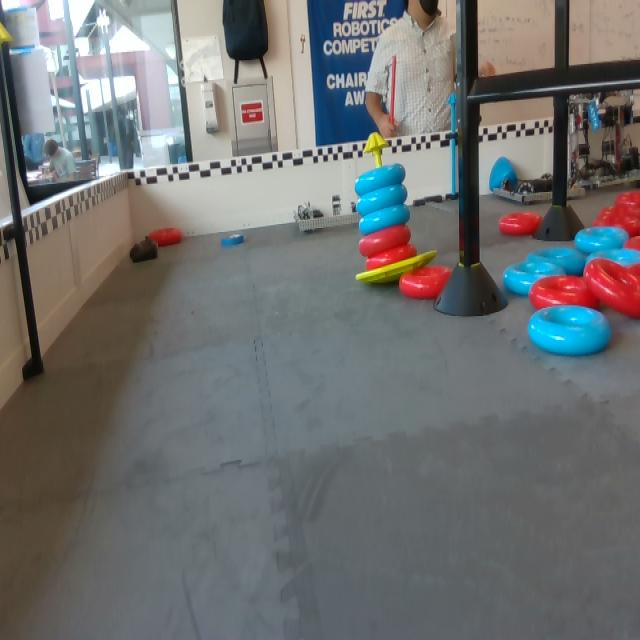Blue-Ring: (528, 304, 612, 356), (502, 262, 565, 294), (354, 163, 407, 199), (359, 205, 411, 237), (526, 247, 584, 275), (575, 225, 628, 255), (357, 187, 405, 219), (585, 249, 639, 268), (220, 231, 245, 248)
Mobile-Goal: (355, 130, 438, 284)
Red-Ring: (584, 259, 639, 319), (529, 277, 601, 309), (398, 265, 453, 299), (358, 224, 411, 259), (365, 244, 418, 272), (596, 207, 639, 236), (500, 212, 541, 234), (148, 228, 183, 248), (616, 192, 639, 214), (628, 264, 639, 279)
Yellow-Stake-Head: (364, 133, 389, 153), (0, 20, 13, 43)
zblue-Stake-Head: (446, 93, 456, 104)
